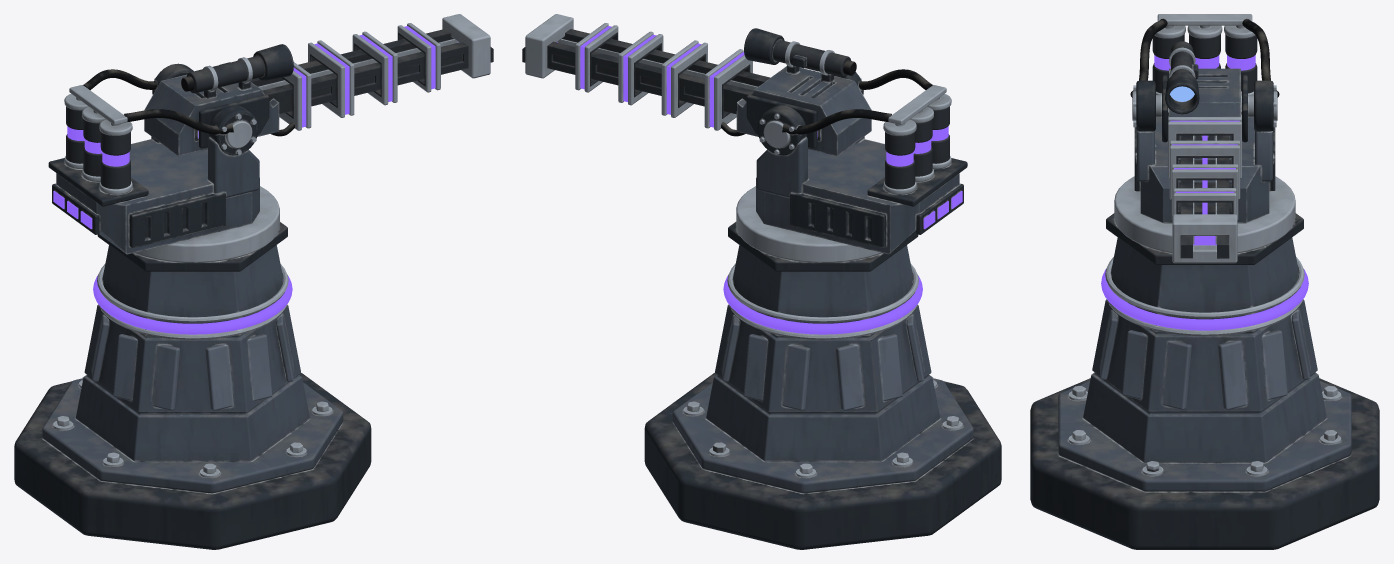
File: railgun.glb
3 views of the same model, side by side, from view 1: azimuth 30°, elevation 25°; view 2: azimuth 150°, elevation 25°; view 3: azimuth 270°, elevation 25° (orthographic). The views are drawn at different scales.
Visible parts, largest first — view 1: Base, Turret, Gun, Cradle; view 2: Base, Turret, Gun, Cradle; view 3: Base, Turret, Gun, Cradle.
Part boxes in pixels (left/top/right/bottom): Base: left=14, top=186, right=371, bottom=549; Turret: left=48, top=63, right=259, bottom=254; Gun: left=144, top=14, right=493, bottom=155; Cradle: left=199, top=95, right=269, bottom=148; Base: left=644, top=186, right=1001, bottom=549; Turret: left=756, top=69, right=967, bottom=254; Gun: left=522, top=14, right=871, bottom=155; Cradle: left=746, top=95, right=817, bottom=148; Base: left=1030, top=176, right=1379, bottom=549; Turret: left=1130, top=14, right=1279, bottom=223; Gun: left=1165, top=41, right=1241, bottom=263; Cradle: left=1156, top=75, right=1253, bottom=142.
Bounding box in the file's own units: 6.91 × 6.38 × 4.62.
6 materials, 4 textured.
